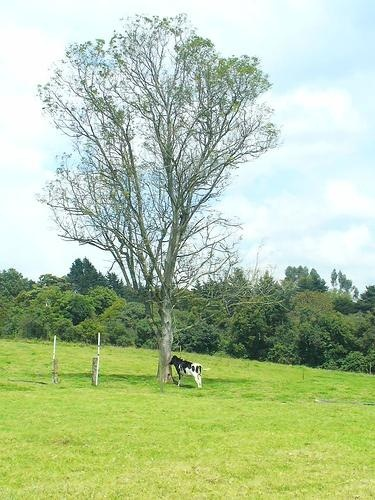cow: (170, 355, 205, 390)
